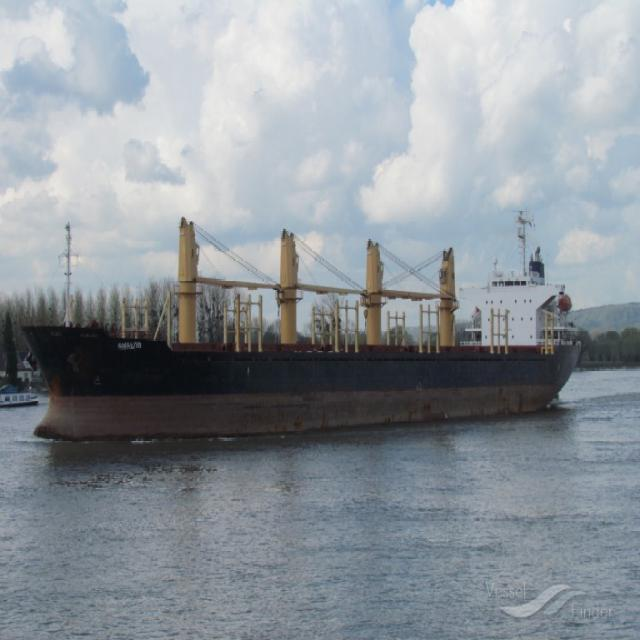OCR: (111, 340, 147, 360)
